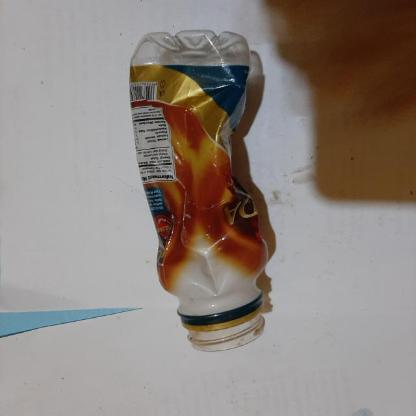Plastic Bottle: (128, 29, 272, 350)
